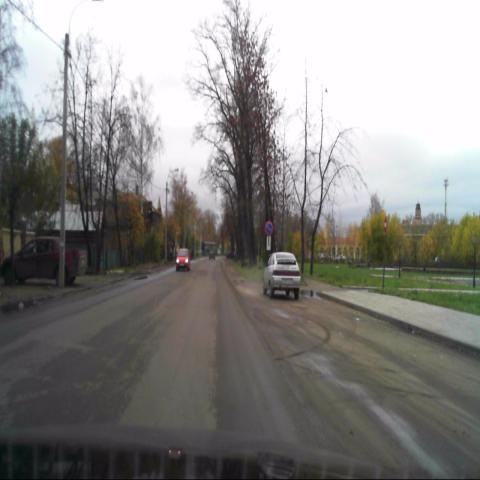3_28: (265, 222, 272, 236)
